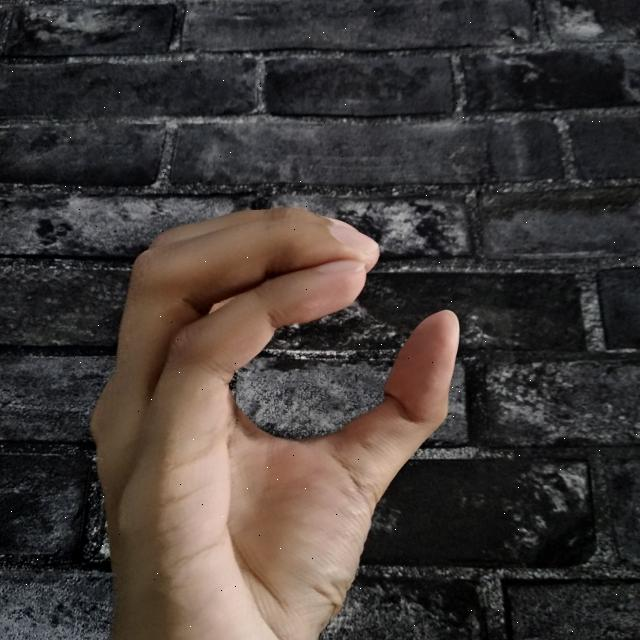C: (87, 205, 463, 640)
